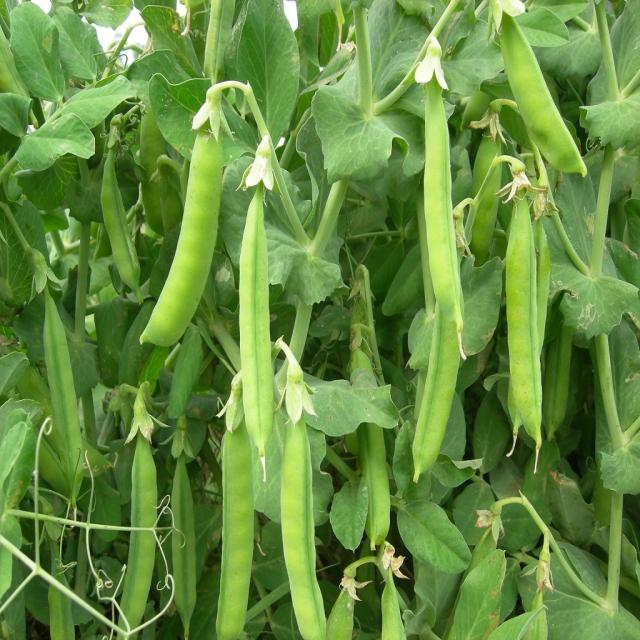aguacate: (146, 106, 221, 358)
